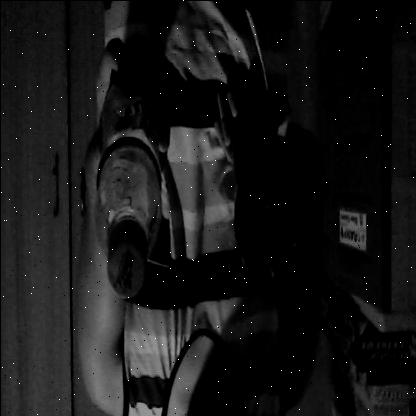Plastic Bottle: (84, 57, 172, 319)
